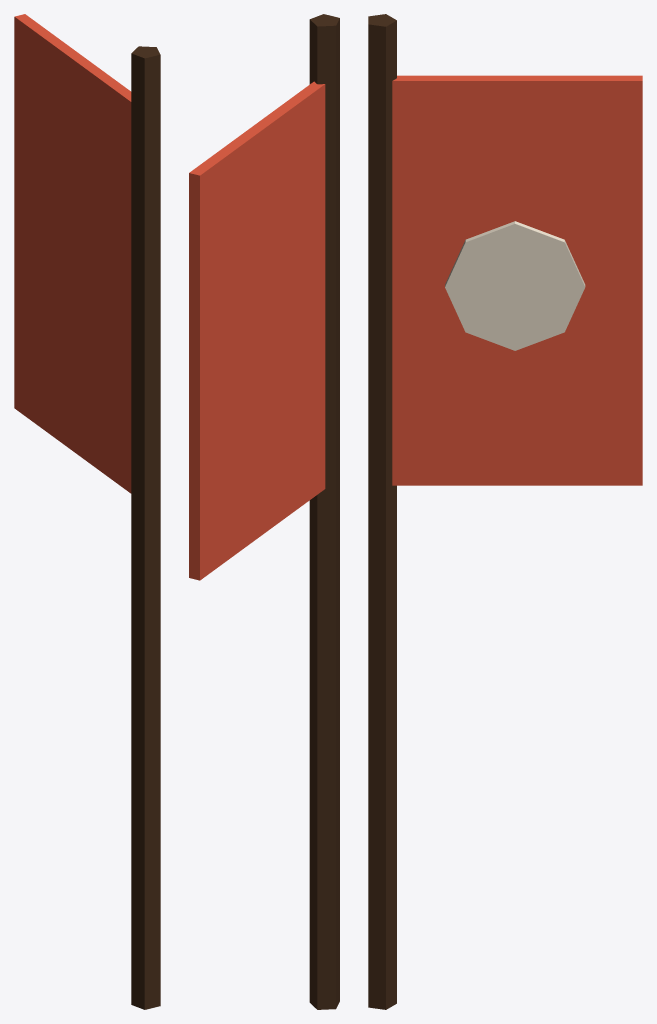
The model's file is br_med_sign.glb.
The picture shows the model from 3 angles, left to right: view 1: azimuth 30°, elevation 25°; view 2: azimuth 150°, elevation 25°; view 3: azimuth 270°, elevation 25°; orthographic projection. The views are drawn at different scales.
Parts seen in each view (by area): view 1: br_med_sign; view 2: br_med_sign; view 3: br_med_sign.
Part boxes in pixels (left/top/right/bottom): br_med_sign: left=14, top=14, right=160, bottom=1009; br_med_sign: left=189, top=14, right=339, bottom=1009; br_med_sign: left=368, top=14, right=642, bottom=1009.
Size of the model in its own units: 0.0976 by 3.4 by 0.8605.
